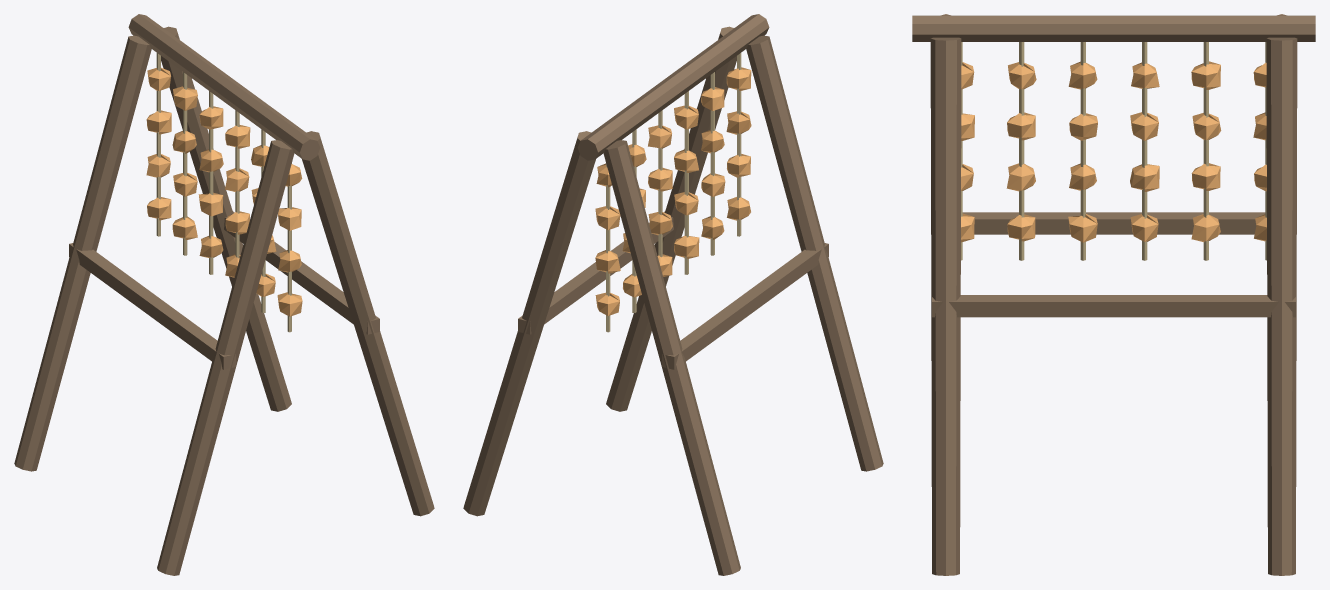
Rendered from korean-hanok-village-and-street-persimmon-drying-rack-e6c7ede2__38088.glb.
3 views of the same model, side by side, from view 1: azimuth 30°, elevation 25°; view 2: azimuth 150°, elevation 25°; view 3: azimuth 270°, elevation 25° (orthographic). The views are drawn at different scales.
Parts seen in each view (by area): view 1: persimmon-drying-rack; view 2: persimmon-drying-rack; view 3: persimmon-drying-rack.
Part boxes in pixels (x1,y1,x2,y2): persimmon-drying-rack: [14, 14, 434, 575]; persimmon-drying-rack: [463, 14, 883, 575]; persimmon-drying-rack: [912, 14, 1315, 575].
Bounding box in the file's own units: 1.34 × 1.92 × 1.44.
